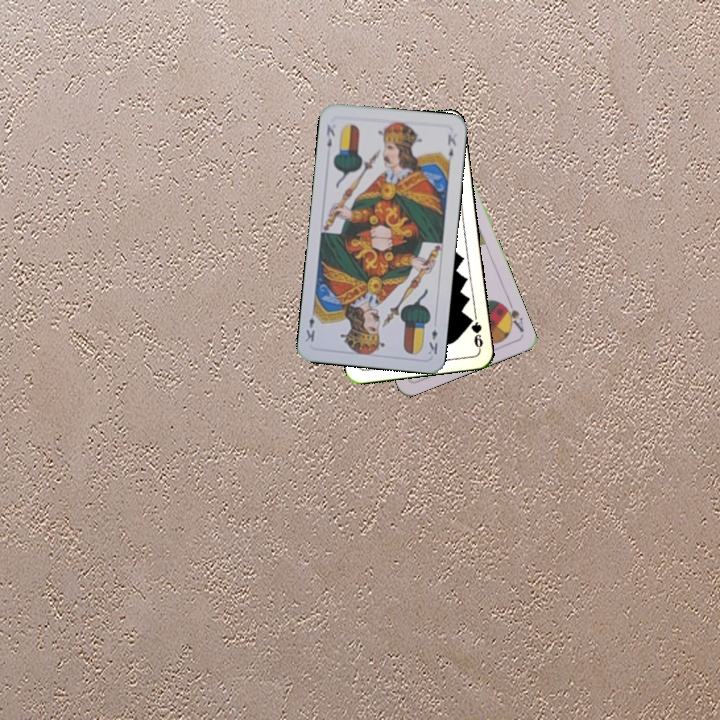EK: (424, 326, 440, 357), (322, 121, 337, 150)
G9: (464, 313, 485, 352)
SA: (498, 297, 526, 335)
